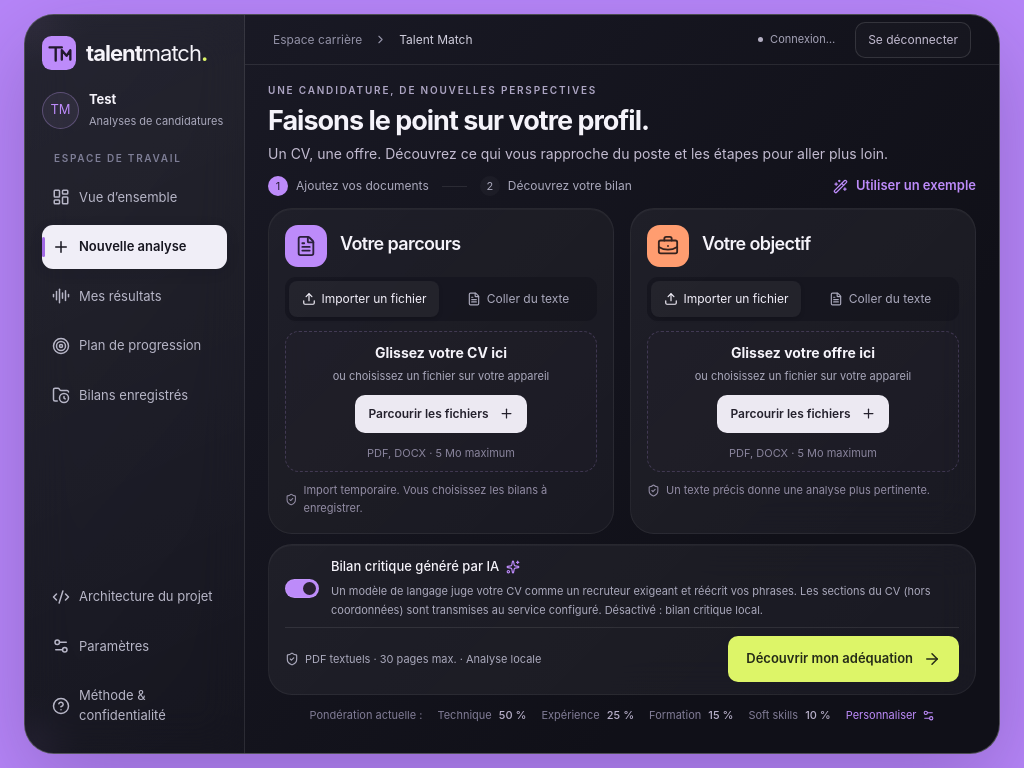
Test case: Independent result provenance review › restores a completed report after remount for the same account only
Later steps or results of the test are not shown.
Click the button "Utiliser un exemple" at (904, 186), box [833,176,976,196]
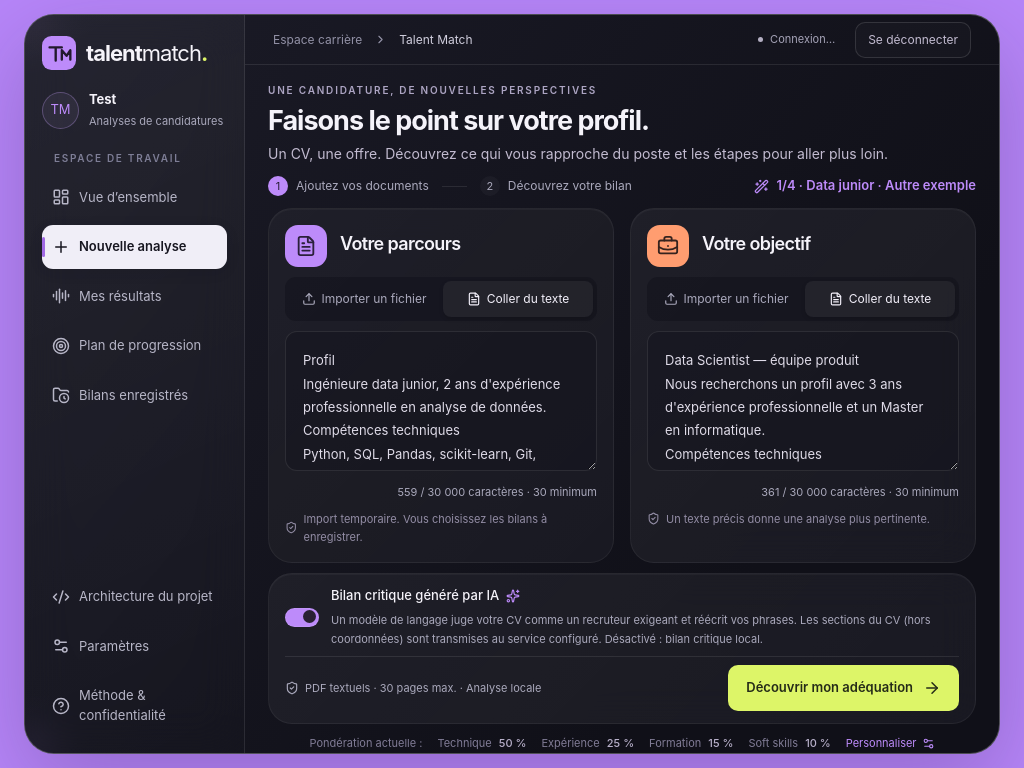
Click the button "Découvrir mon adéquation" at (844, 688), box [728,665,959,710]
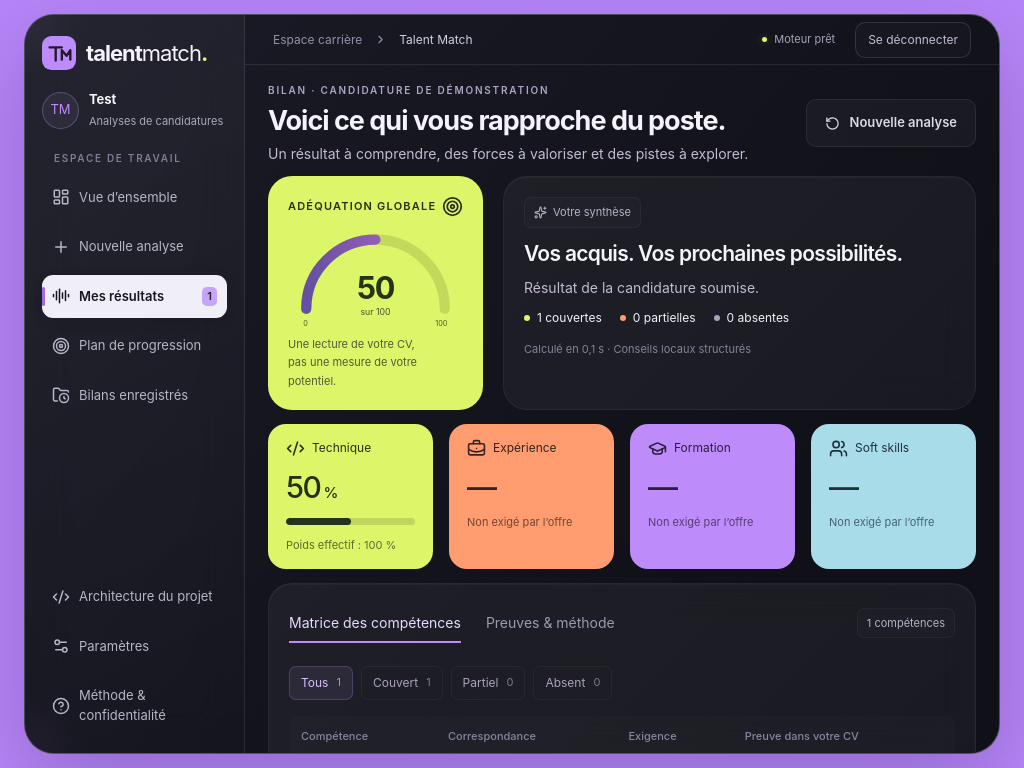
expect the text "Résultat de la candidature soumise." is shown: met, box [524,279,759,296]
